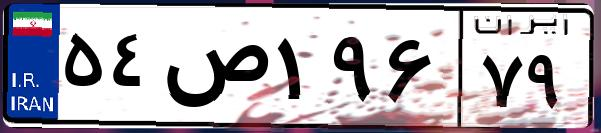1: (270, 28, 330, 110)
4: (110, 28, 158, 98)
5: (57, 26, 110, 100)
6: (385, 28, 445, 110)
7: (475, 38, 525, 113)
9: (330, 28, 385, 110), (525, 38, 570, 115)
ص: (158, 20, 270, 120)
